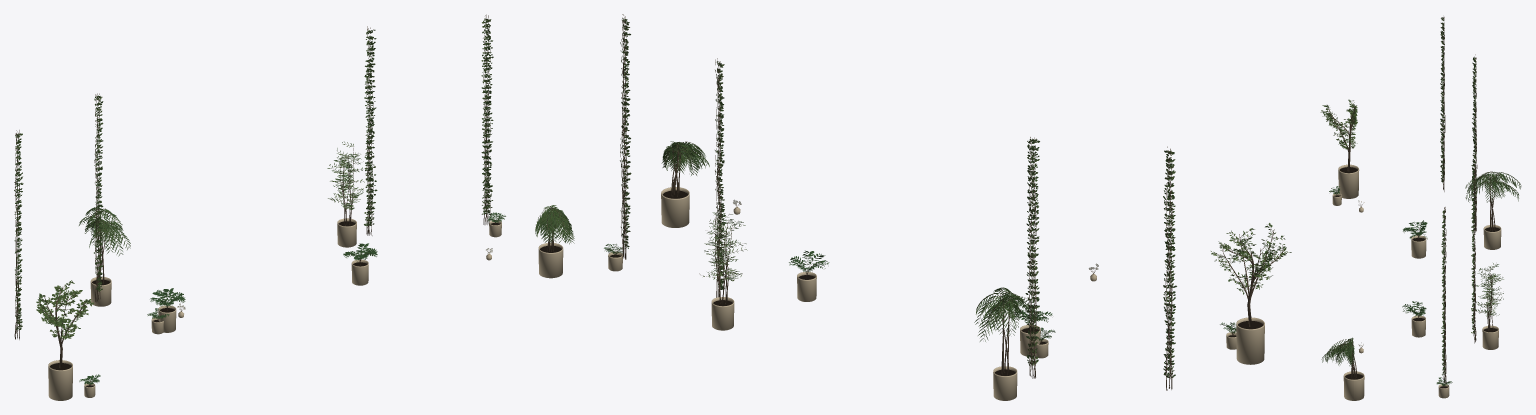
Rendered from projection-botanical-v6.glb.
The picture shows the model from 3 angles, left to right: view 1: azimuth 30°, elevation 25°; view 2: azimuth 150°, elevation 25°; view 3: azimuth 270°, elevation 25°; orthographic projection. The views are drawn at different scales.
Parts seen in each view (by area): view 1: Projection Botanical V6 | foliage small climbing leaves, Projection Botanical V6 | planter champagne brushed metal, Projection Botanical V6 | foliage slender areca and bamboo, Projection Botanical V6 | bark textured natural warm grey tr, Projection Botanical V6 | foliage mature ficus with fine ret, Projection Botanical V6 | foliage fine fern pinnae, Projection Botanical V6 | bark slender olive brown stems, Projection Botanical V6 | soil dark coarse planting substrat; view 2: Projection Botanical V6 | bark textured natural warm grey tr, Projection Botanical V6 | planter champagne brushed metal, Projection Botanical V6 | foliage small climbing leaves, Projection Botanical V6 | foliage slender areca and bamboo, Projection Botanical V6 | foliage mature ficus with fine ret, Projection Botanical V6 | bark slender olive brown stems, Projection Botanical V6 | foliage fine fern pinnae, Projection Botanical V6 | soil dark coarse planting substrat; view 3: Projection Botanical V6 | planter champagne brushed metal, Projection Botanical V6 | bark textured natural warm grey tr, Projection Botanical V6 | foliage slender areca and bamboo, Projection Botanical V6 | foliage small climbing leaves, Projection Botanical V6 | foliage mature ficus with fine ret, Projection Botanical V6 | foliage fine fern pinnae, Projection Botanical V6 | bark slender olive brown stems, Projection Botanical V6 | soil dark coarse planting substrat.
Part boxes in pixels (x1=…): Projection Botanical V6 | foliage small climbing leaves: x1=14, y1=18, x2=493, y2=330; Projection Botanical V6 | planter champagne brushed metal: x1=48, y1=218, x2=563, y2=400; Projection Botanical V6 | foliage slender areca and bamboo: x1=79, y1=141, x2=574, y2=256; Projection Botanical V6 | bark textured natural warm grey tr: x1=14, y1=14, x2=554, y2=368; Projection Botanical V6 | foliage mature ficus with fine ret: x1=36, y1=280, x2=93, y2=339; Projection Botanical V6 | foliage fine fern pinnae: x1=79, y1=212, x2=505, y2=384; Projection Botanical V6 | bark slender olive brown stems: x1=15, y1=33, x2=571, y2=386; Projection Botanical V6 | soil dark coarse planting substrat: x1=49, y1=221, x2=561, y2=387; Projection Botanical V6 | bark textured natural warm grey tr: x1=620, y1=14, x2=1283, y2=390; Projection Botanical V6 | planter champagne brushed metal: x1=608, y1=187, x2=1264, y2=400; Projection Botanical V6 | foliage small climbing leaves: x1=620, y1=18, x2=1176, y2=377; Projection Botanical V6 | foliage slender areca and bamboo: x1=661, y1=141, x2=1030, y2=341; Projection Botanical V6 | foliage mature ficus with fine ret: x1=1211, y1=223, x2=1291, y2=294; Projection Botanical V6 | bark slender olive brown stems: x1=608, y1=21, x2=1287, y2=369; Projection Botanical V6 | foliage fine fern pinnae: x1=604, y1=244, x2=1236, y2=340; Projection Botanical V6 | soil dark coarse planting substrat: x1=610, y1=190, x2=1263, y2=375; Projection Botanical V6 | planter champagne brushed metal: x1=1332, y1=164, x2=1501, y2=400; Projection Botanical V6 | bark textured natural warm grey tr: x1=1328, y1=17, x2=1496, y2=383; Projection Botanical V6 | foliage slender areca and bamboo: x1=1321, y1=171, x2=1521, y2=366; Projection Botanical V6 | foliage small climbing leaves: x1=1440, y1=17, x2=1476, y2=375; Projection Botanical V6 | foliage mature ficus with fine ret: x1=1320, y1=99, x2=1357, y2=149; Projection Botanical V6 | foliage fine fern pinnae: x1=1329, y1=186, x2=1452, y2=385; Projection Botanical V6 | bark slender olive brown stems: x1=1323, y1=62, x2=1518, y2=387; Projection Botanical V6 | soil dark coarse planting substrat: x1=1334, y1=167, x2=1500, y2=388.
Size of the model in its own units: 14.25 by 5.72 by 5.61.
Materials: 10 (7 with a texture image).
